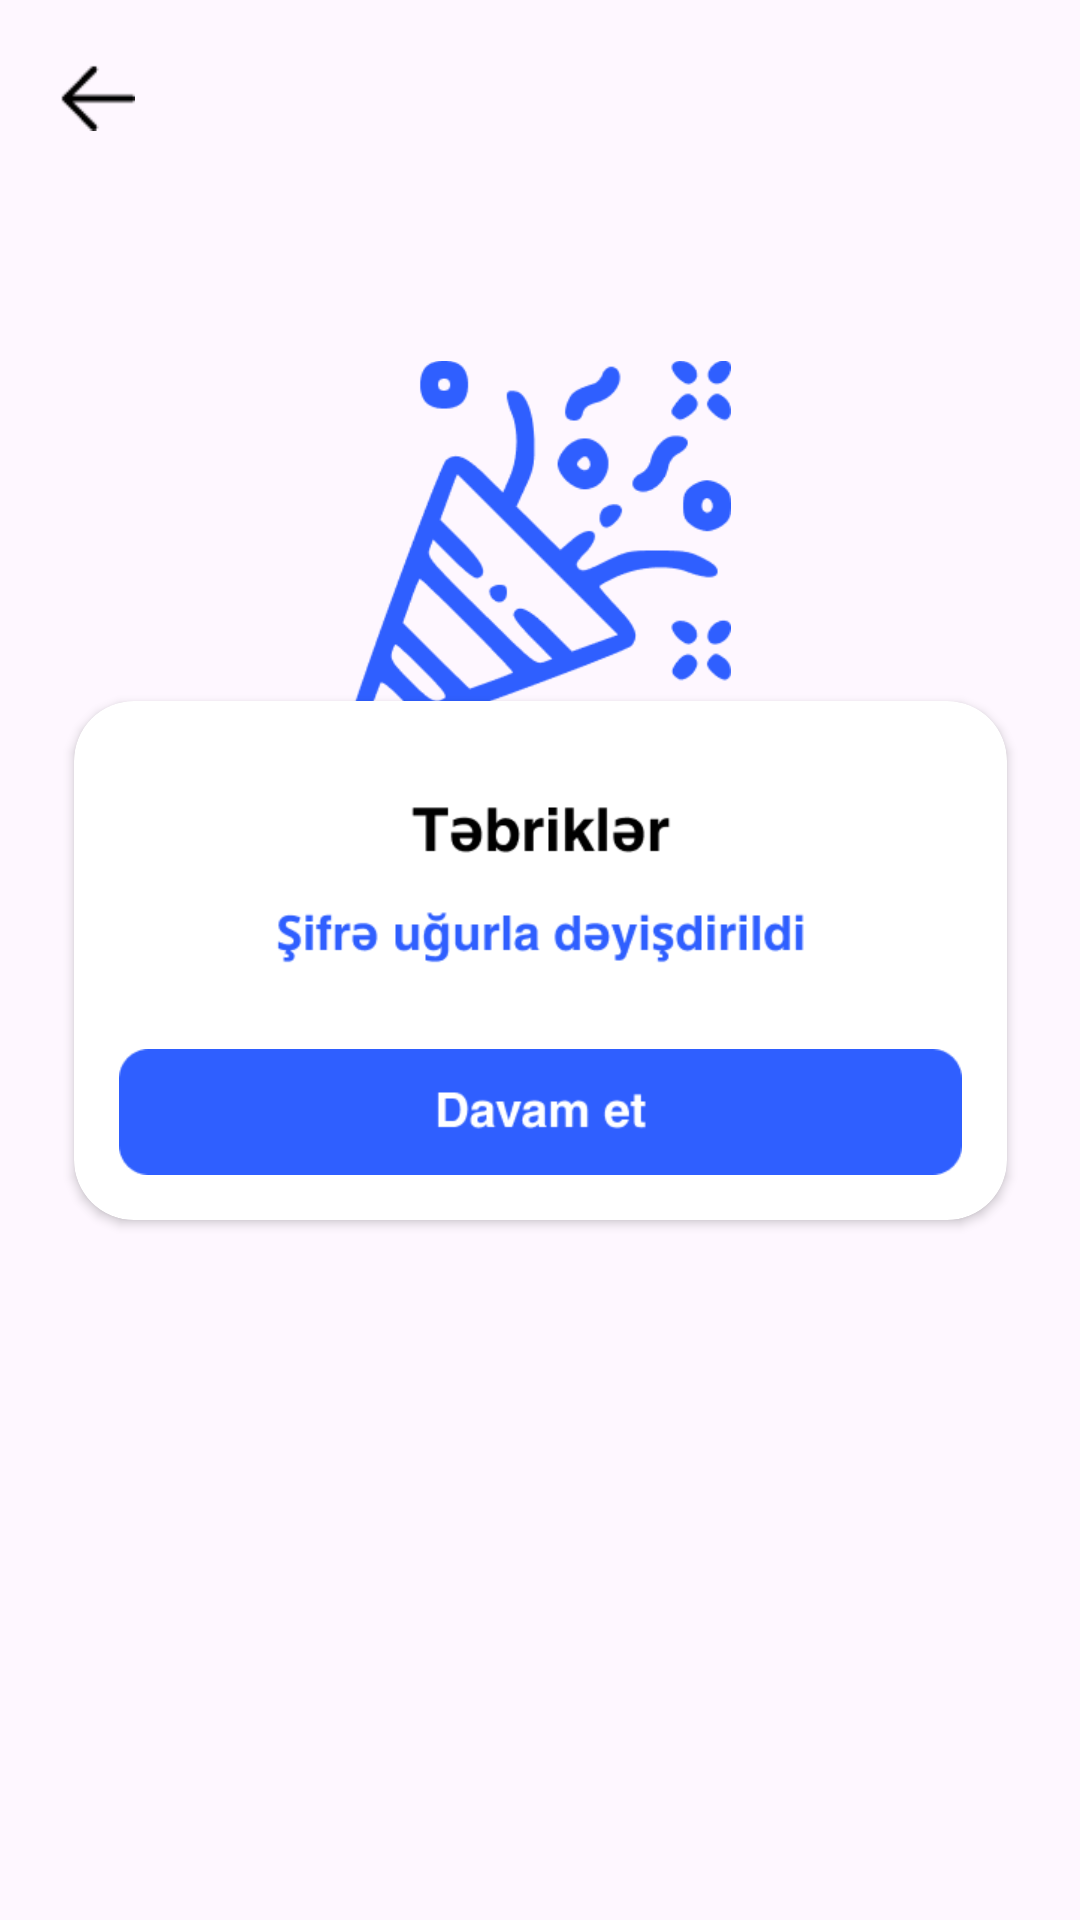

Where to tap for icons on this 1080x1920 app screen, as [x,y]:
backarrow: [98,98]
